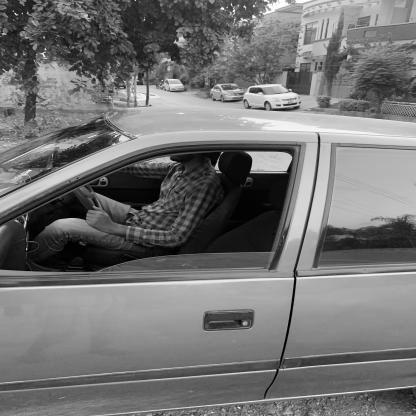no_seatbelt: (151, 154, 209, 219)
